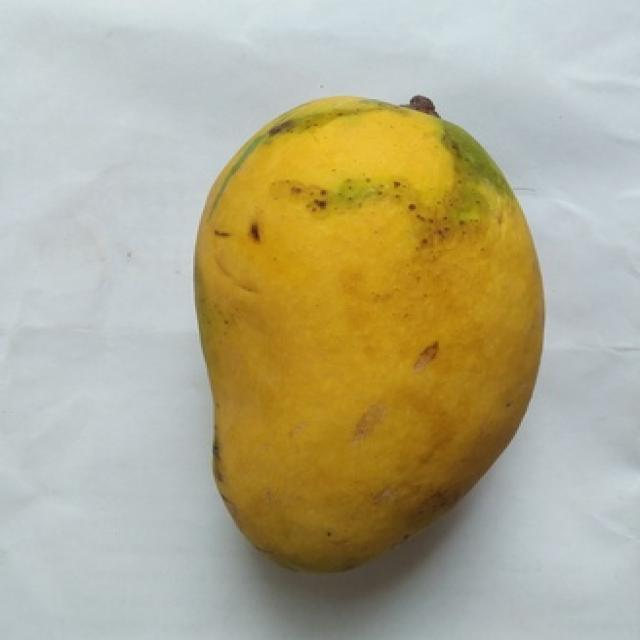Mango: (195, 97, 542, 568)
